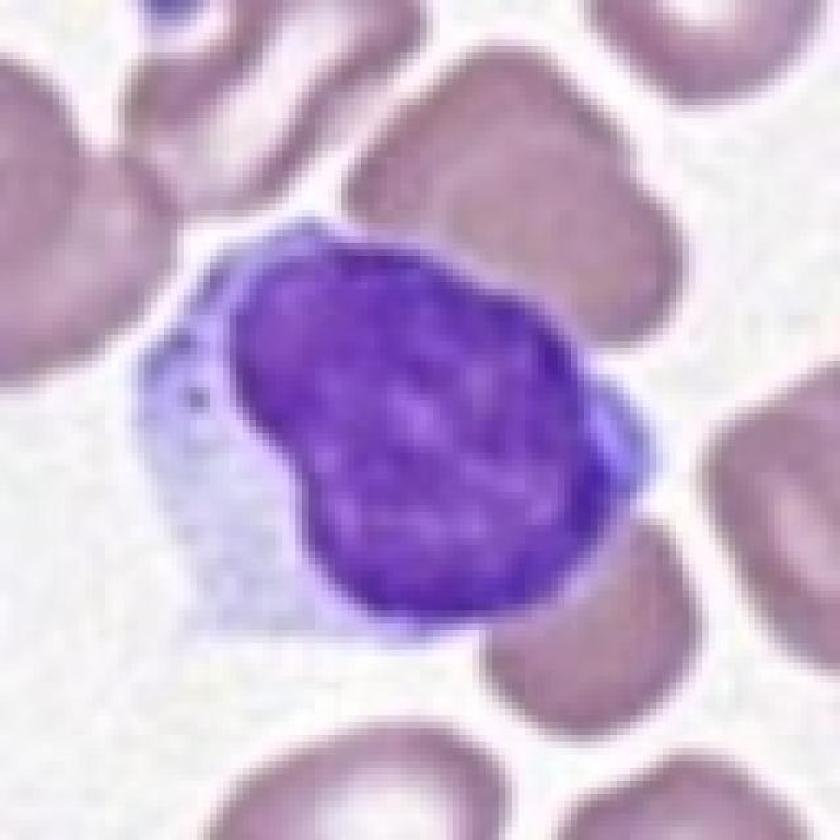lymphocyte: (118, 207, 670, 659)
